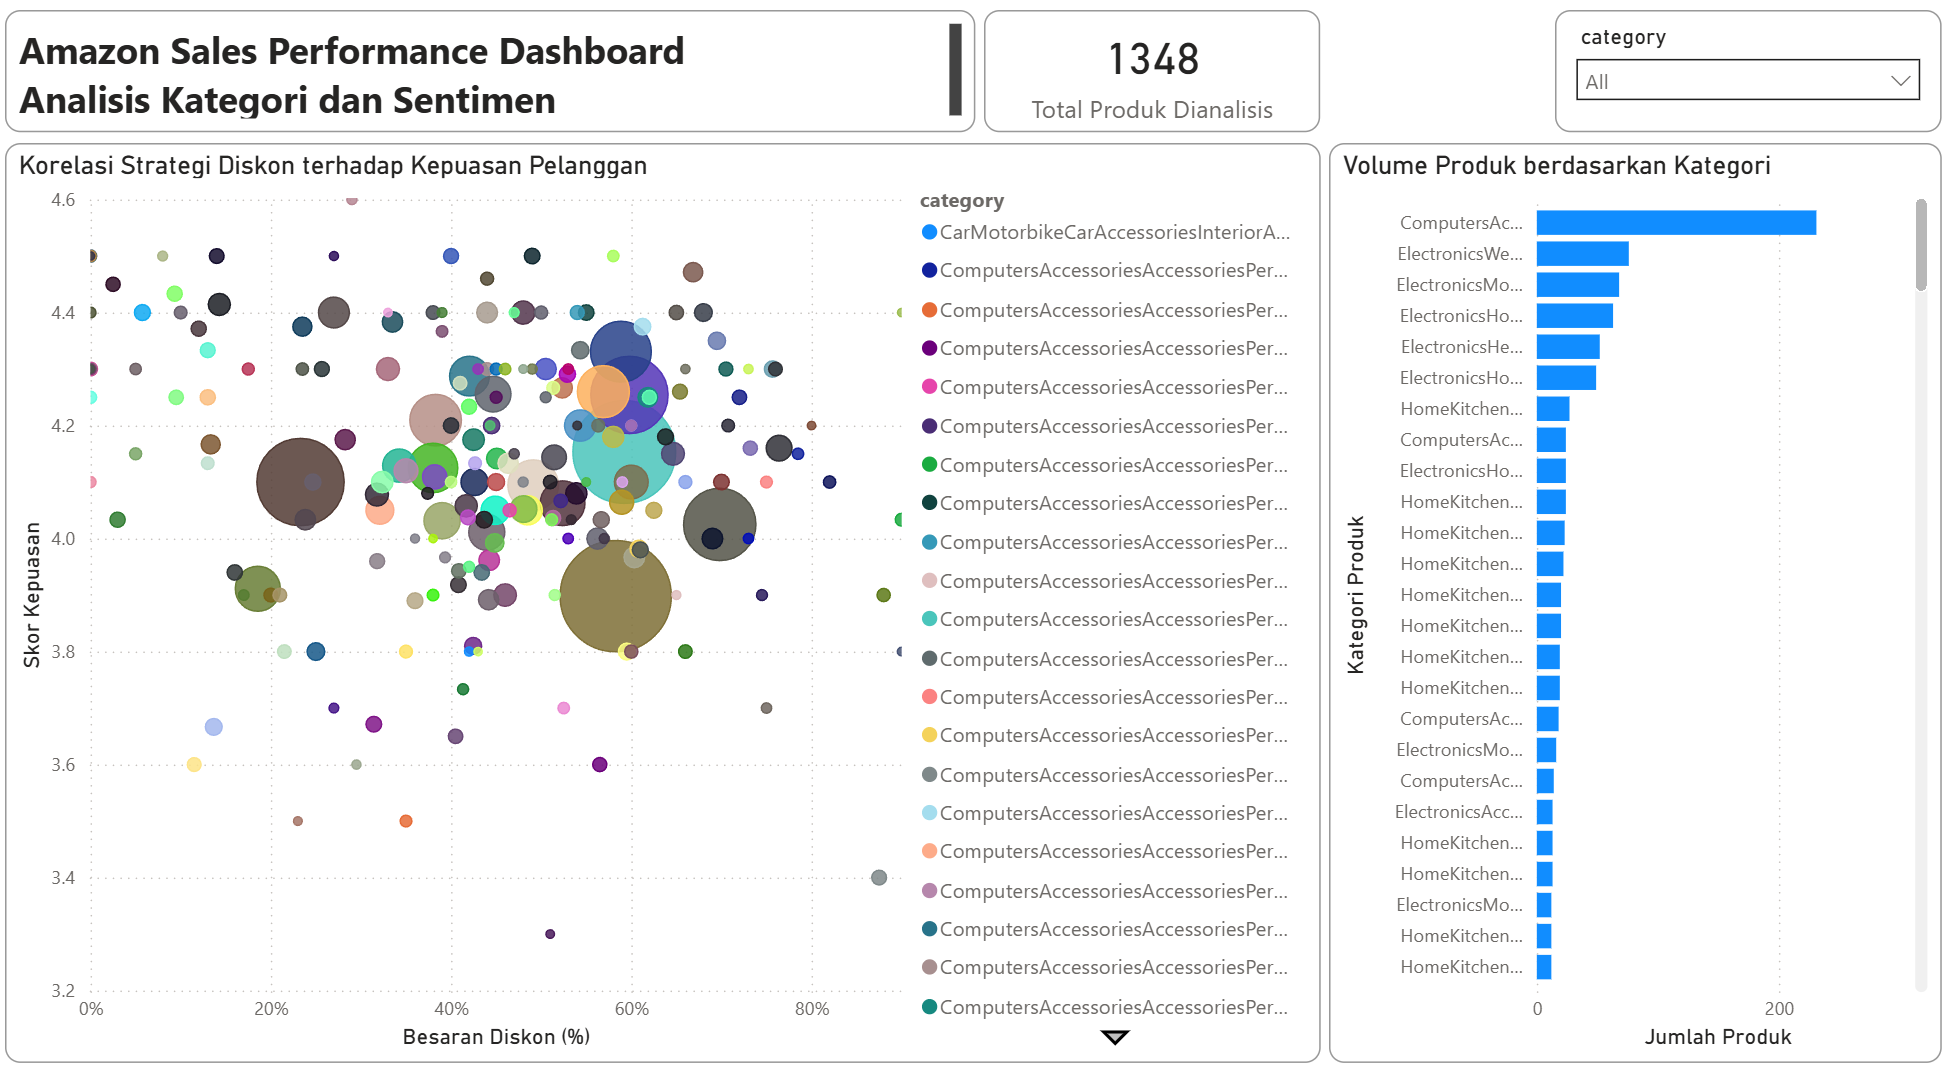

What the dashboard file says about the page in this screenshot:
{"tool":"powerbi","page":{"name":"Page 1","canvas":[1280,720],"ordinal":0},"visuals":[{"type":"scatterChart","title":"Korelasi Strategi Diskon terhadap Kepuasan Pelanggan","fields":{"X":["Avg(amazon_analysis sales_data.discount_percentage)"],"Y":["Avg(amazon_analysis sales_data.rating)"],"Size":["Sum(amazon_analysis sales_data.rating_count)"],"Series":["amazon_analysis sales_data.category"]},"box":[5.2,102.8,860.8,601.7],"z":0},{"type":"clusteredBarChart","title":"Volume Produk berdasarkan Kategori","fields":{"Category":["amazon_analysis sales_data.category"],"Y":["CountNonNull(amazon_analysis sales_data.product_id)"]},"box":[871.9,102.8,400.6,601.7],"z":1000},{"type":"card","fields":{"Values":["Count(amazon_analysis sales_data.product_id)"]},"box":[645.6,15.6,220.4,80.4],"z":2000},{"type":"slicer","fields":{"Values":["amazon_analysis sales_data.category"]},"box":[1019.4,15.6,253.2,80.4],"z":3000},{"type":"textbox","box":[5.2,15.6,635.2,80.4],"z":4000}]}

Visuals, with their boxes in screenshot pixels (x1, y1, x2, y2), scaled from the page's 1280x720 canvas onto the 1948x1069 screenshot:
"Korelasi Strategi Diskon terhadap Kepuasan Pelanggan" scatterChart: box(8, 153, 1318, 1046)
"Volume Produk berdasarkan Kategori" clusteredBarChart: box(1327, 153, 1937, 1046)
card - Count(amazon_analysis sales_data.product_id): box(983, 23, 1318, 143)
slicer - amazon_analysis sales_data.category: box(1551, 23, 1937, 143)
textbox: box(8, 23, 975, 143)
